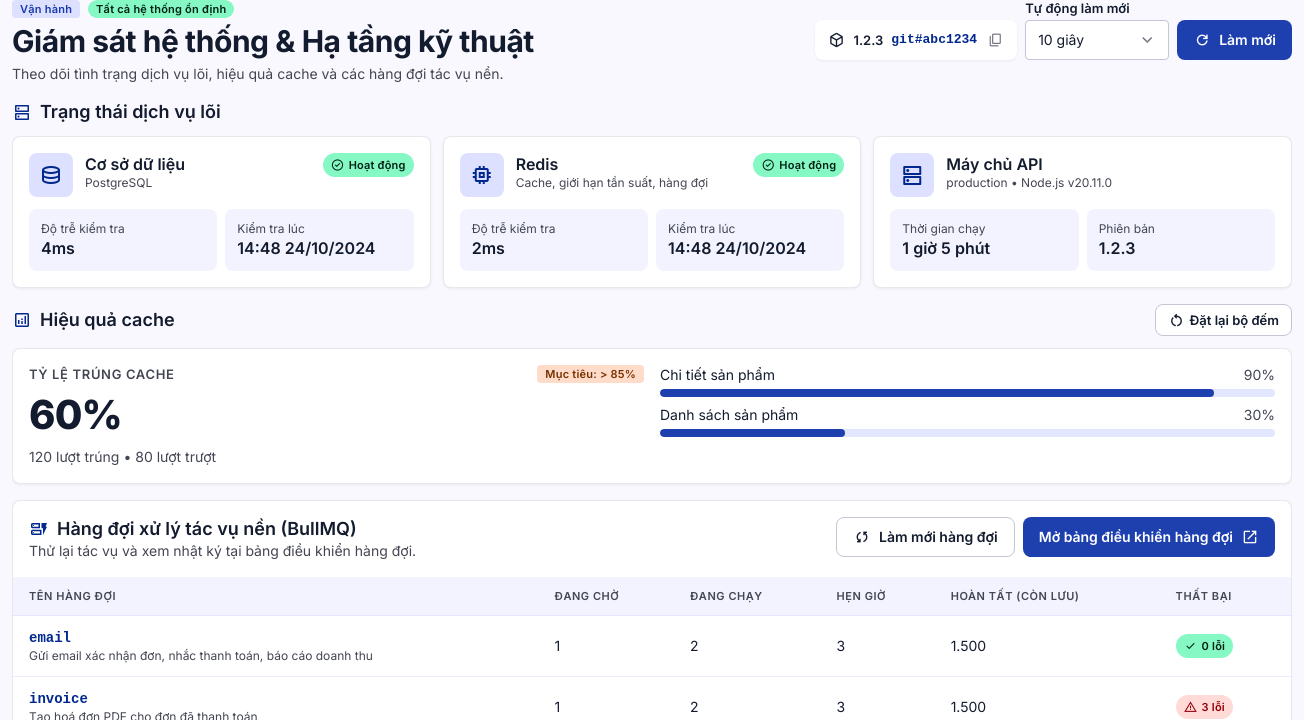
Test: SystemMonitorPage › đổi chu kỳ làm mới ghi URL; giá trị sai về mặc định
Select "Tắt" in the dropdown labelled "Tự động làm mới" at (1097, 40), box [1025,20,1169,60]
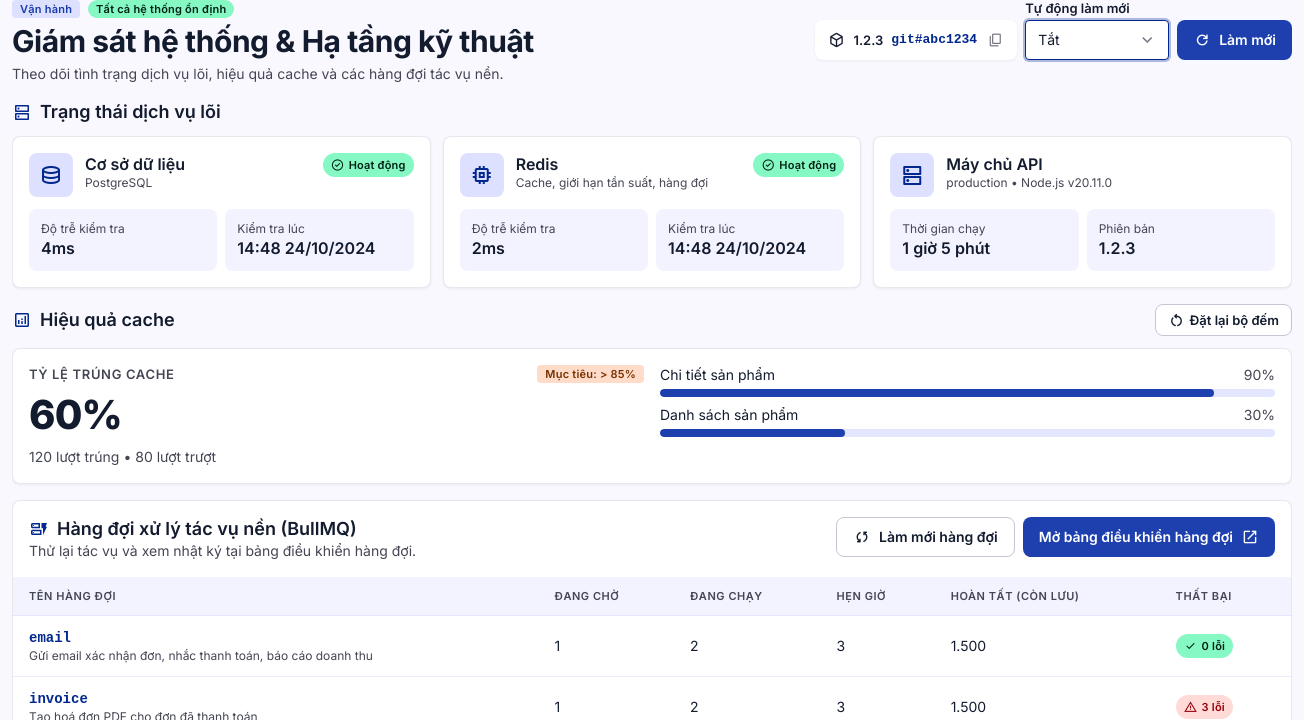
Select "10 giây" in the dropdown labelled "Tự động làm mới" at (1097, 40), box [1025,20,1169,60]
(page scrolled)
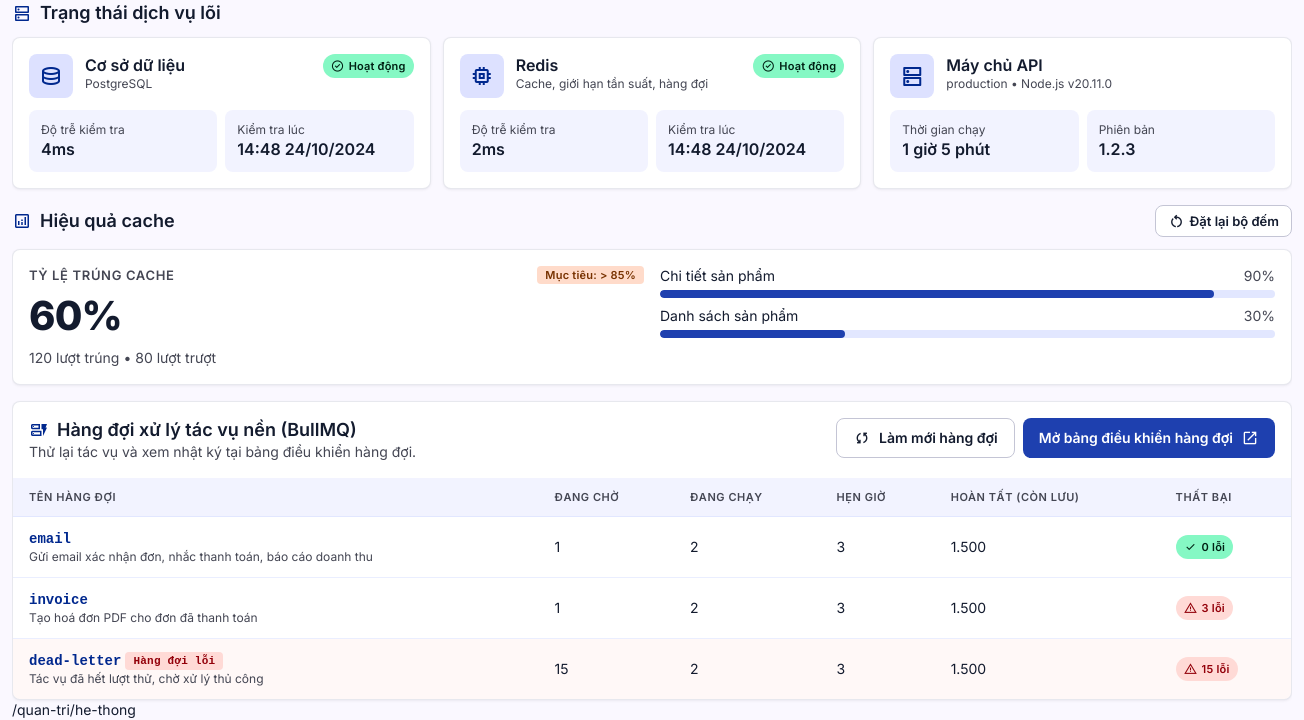
Result: the text with test id "location" reads "/quan-tri/he-thong" at [12,701,136,718]
